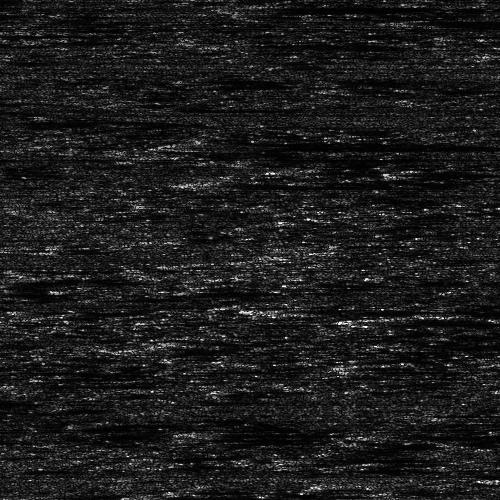object: (207, 300, 352, 317), (354, 306, 500, 319), (108, 137, 213, 150), (347, 429, 430, 442), (189, 174, 252, 191), (407, 412, 500, 423), (167, 427, 240, 438), (0, 115, 66, 126), (232, 2, 295, 13), (373, 14, 436, 25), (346, 317, 419, 326), (173, 41, 246, 48), (134, 491, 187, 498), (476, 50, 500, 59), (471, 317, 500, 322)
shadow: (220, 174, 500, 191), (280, 300, 500, 317), (161, 137, 431, 150), (4, 115, 220, 126), (264, 2, 452, 13), (389, 429, 500, 442), (204, 427, 331, 438), (405, 14, 500, 25), (382, 317, 494, 326), (210, 41, 354, 48), (160, 491, 275, 498), (447, 306, 500, 319), (464, 412, 500, 423)
